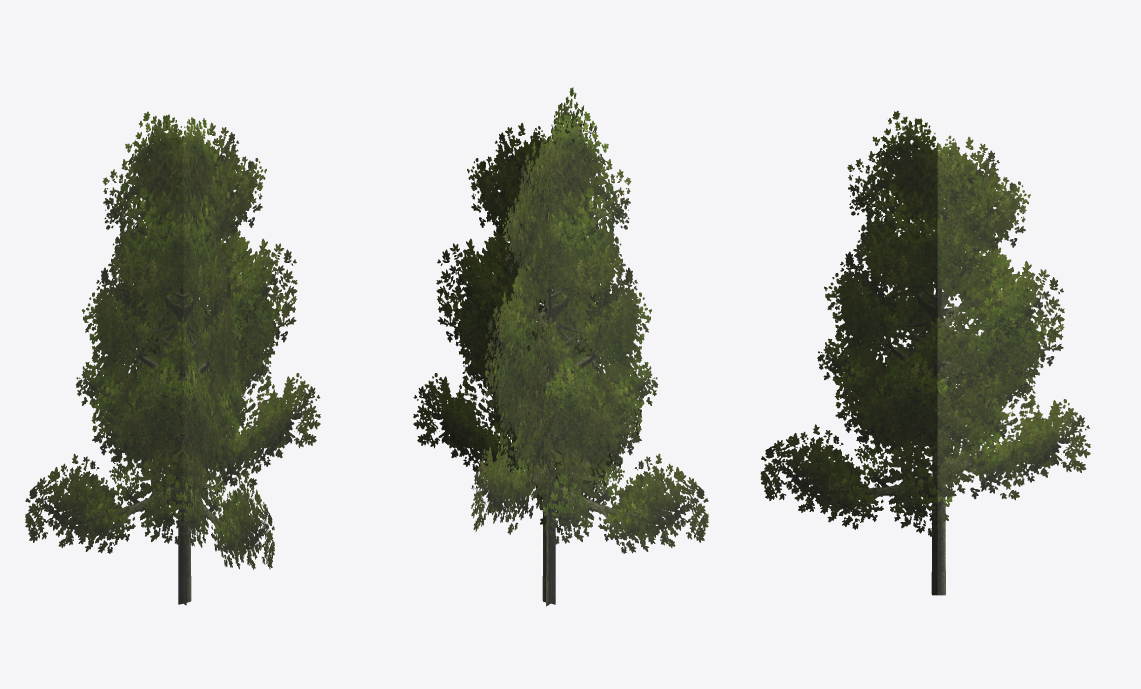
The model's file is White_Ash_Fan_0.obj.
3 renders of one model, left to right at view 1: azimuth 30°, elevation 25°; view 2: azimuth 150°, elevation 25°; view 3: azimuth 270°, elevation 25°, orthographic. The views are drawn at different scales.
Parts seen in each view (by area): view 1: CreateFan; view 2: CreateFan; view 3: CreateFan.
Part boxes in pixels (x1,y1,x2,y2): CreateFan: (25, 111, 320, 605); CreateFan: (413, 87, 708, 606); CreateFan: (760, 111, 1090, 595).
Size of the model in its own units: 8.89 by 13 by 8.89.
Materials: 1 (1 with a texture image).
